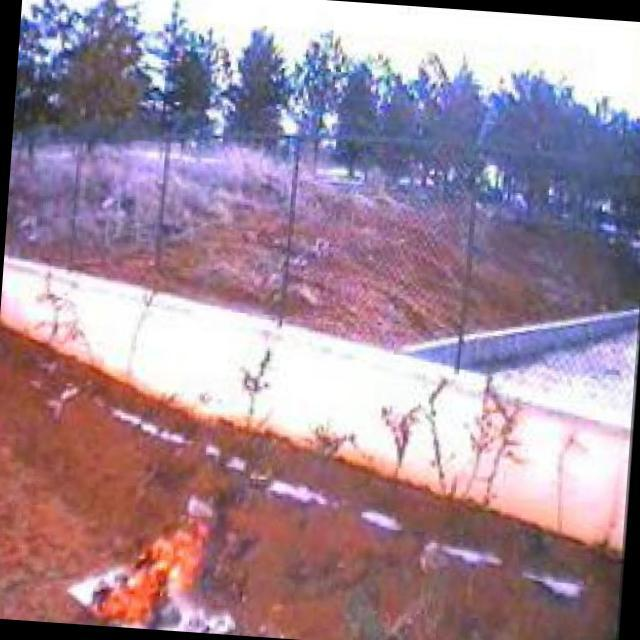Fire: (73, 487, 225, 635)
